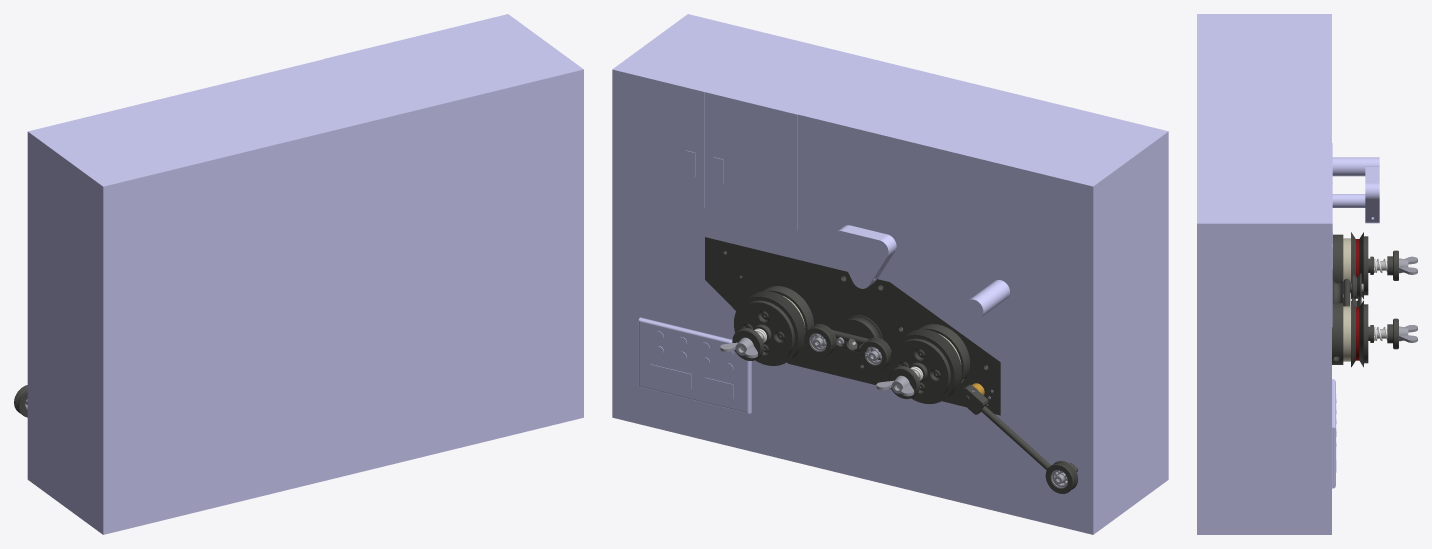
Rendered from Conjunto base Tensor2.fbx.
3 views of the same model, side by side, from view 1: azimuth 30°, elevation 25°; view 2: azimuth 150°, elevation 25°; view 3: azimuth 270°, elevation 25° (orthographic). The views are drawn at different scales.
Parts seen in each view (by area): view 1: machine\machine; view 2: machine\machine, Tens_000_plc\Tens_000_plc_1, Tens_008_tpl\Tens_008_tpl_1 (×2), Part1\Part1.1, Tens_011_bas\Tens_011_bas_1 (×2), Tens_030_pol\Tens_030_pol_1, Tens_013_sop\Tens_013_sop_1, Tens_015_var\Tens_015_var_1; view 3: machine\machine, Tens_013_sop\Tens_013_sop_1 (×2), Tens_008_tpl\Tens_008_tpl_1 (×2), Part1\Part1.1, Tens_0133_fel\Tens_0133_fel_1 (×2), Tens_010_tep\Tens_010_tep_1 (×2), DIN 315 - M8\DIN 315 - M8_1 (×2), Tens_011_bas\Tens_011_bas_1.
Boxes of the visible parts, x1,y1,x2,y2 form: machine\machine: (27,14,583,534); machine\machine: (612,14,1168,534); Tens_000_plc\Tens_000_plc_1: (705,237,1000,415); Tens_008_tpl\Tens_008_tpl_1 (×2): (733,296,954,404); Part1\Part1.1: (833,225,896,288); Tens_011_bas\Tens_011_bas_1 (×2): (748,291,961,395); Tens_030_pol\Tens_030_pol_1: (836,315,882,364); Tens_013_sop\Tens_013_sop_1: (918,324,970,385); Tens_015_var\Tens_015_var_1: (981,406,1058,472); machine\machine: (1197,14,1379,534); Tens_013_sop\Tens_013_sop_1 (×2): (1332,234,1343,364); Tens_008_tpl\Tens_008_tpl_1 (×2): (1359,232,1368,367); Part1\Part1.1: (1365,166,1379,223); Tens_0133_fel\Tens_0133_fel_1 (×2): (1343,238,1350,361); Tens_010_tep\Tens_010_tep_1 (×2): (1387,250,1398,349); DIN 315 - M8\DIN 315 - M8_1 (×2): (1399,256,1417,342); Tens_011_bas\Tens_011_bas_1: (1351,300,1355,367).
Bounding box in the file's own units: 520 × 232 × 360.
